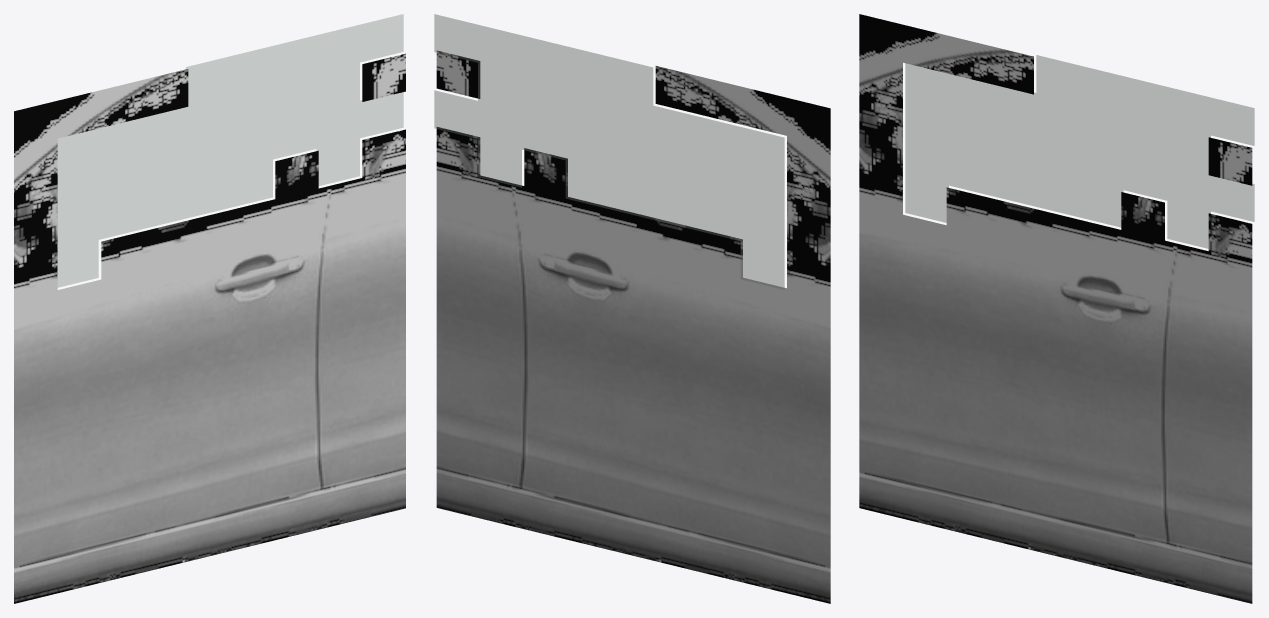
The model's file is door_front.glb.
3 views of the same model, side by side, from view 1: azimuth 30°, elevation 25°; view 2: azimuth 150°, elevation 25°; view 3: azimuth 330°, elevation 25° (orthographic).
Parts seen in each view (by area): view 1: Paint, Glass; view 2: Paint, Glass; view 3: Paint, Glass.
Part boxes in pixels (left/top/right/bottom): Paint: left=14, top=53, right=405, bottom=603; Glass: left=57, top=14, right=403, bottom=287; Paint: left=436, top=50, right=830, bottom=603; Glass: left=434, top=14, right=784, bottom=289; Paint: left=859, top=14, right=1252, bottom=603; Glass: left=905, top=55, right=1254, bottom=248.
Size of the model in its own units: 0.7697 by 0.9249 by 0.008.
2 materials, 1 textured.
